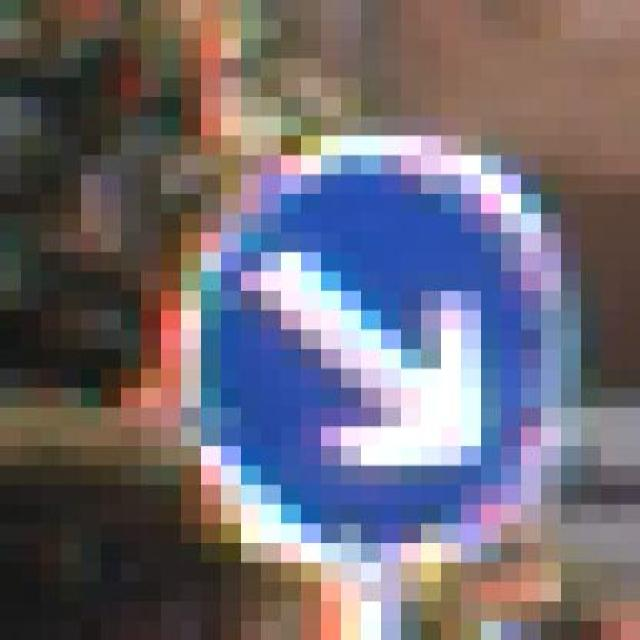Keep-Right: (100, 116, 620, 621)
